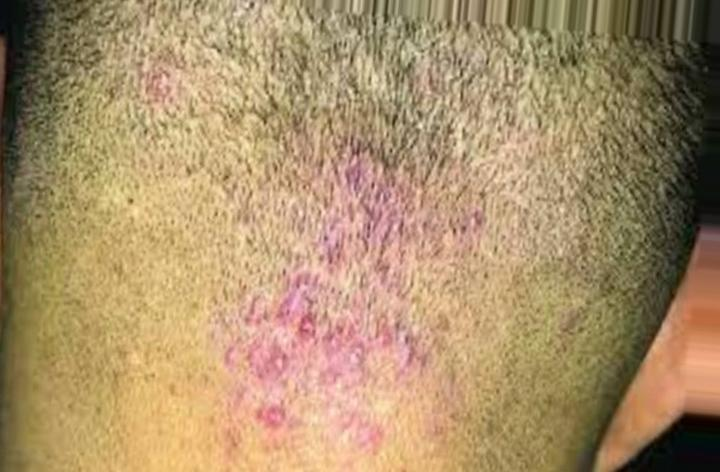Folliculitis: (218, 147, 495, 437)
